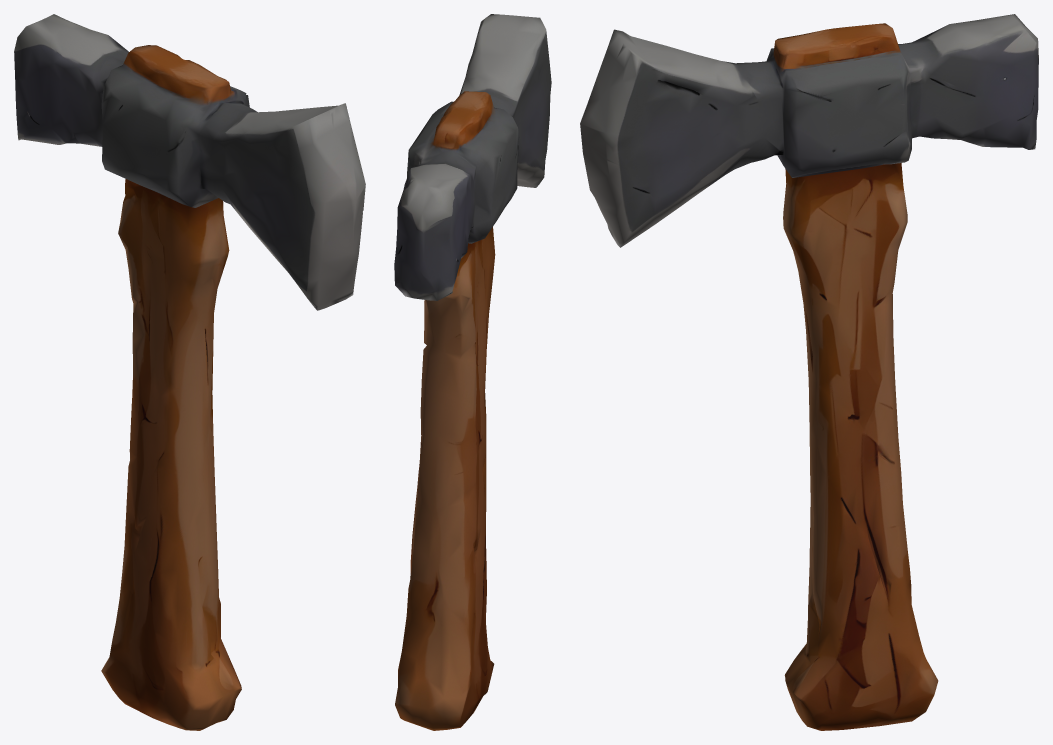
The model's file is item_hatchet.glb.
3 views of the same model, side by side, from view 1: azimuth 30°, elevation 25°; view 2: azimuth 150°, elevation 25°; view 3: azimuth 270°, elevation 25° (orthographic). The views are drawn at different scales.
Parts seen in each view (by area): view 1: tripo_node_9af48f98-a092-425e-b031-22dc09542f5d; view 2: tripo_node_9af48f98-a092-425e-b031-22dc09542f5d; view 3: tripo_node_9af48f98-a092-425e-b031-22dc09542f5d.
Boxes of the visible parts, x1,y1,x2,y2 form: tripo_node_9af48f98-a092-425e-b031-22dc09542f5d: [14, 14, 365, 730]; tripo_node_9af48f98-a092-425e-b031-22dc09542f5d: [394, 14, 551, 730]; tripo_node_9af48f98-a092-425e-b031-22dc09542f5d: [580, 14, 1038, 730].
Bounding box in the file's own units: 0.2425 × 1 × 0.6007.
Materials: 1 (1 with a texture image).
